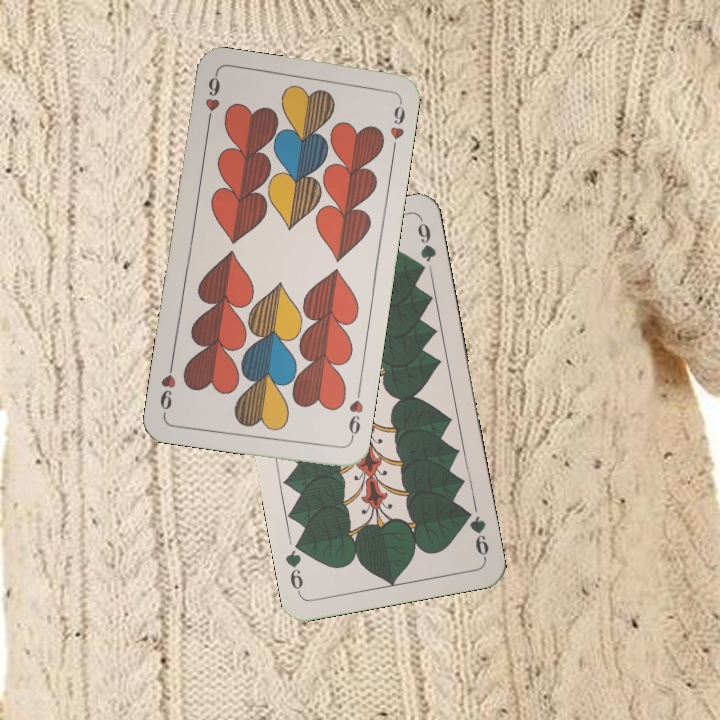G9: (460, 505, 492, 562)
H9: (201, 71, 223, 130), (345, 385, 366, 444)
